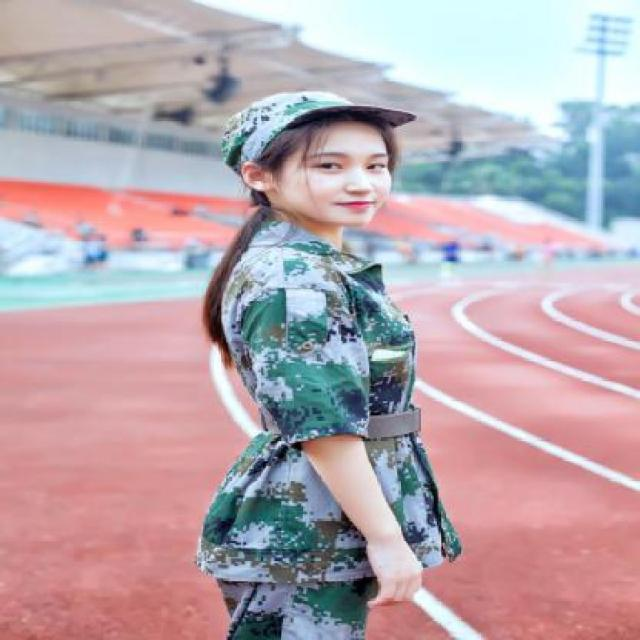Person: (171, 81, 411, 640)
